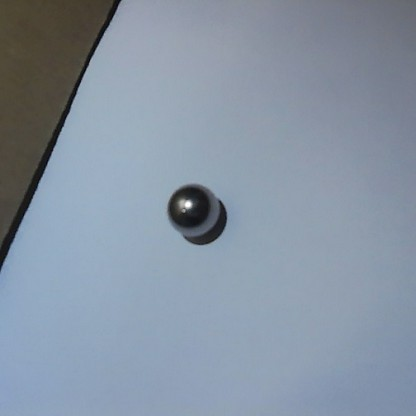ironball: (162, 179, 223, 239)
